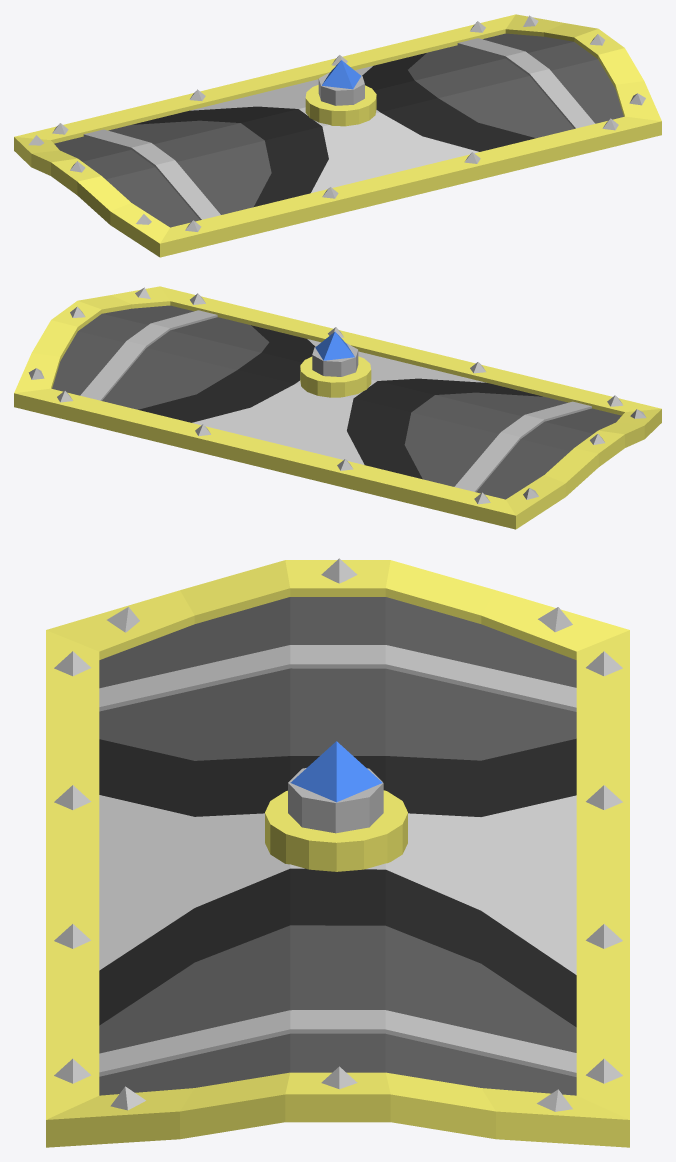
Rendered from Shield_2_e_gr.fbx.
3 renders of one model, top to bottom at view 1: azimuth 30°, elevation 25°; view 2: azimuth 150°, elevation 25°; view 3: azimuth 270°, elevation 25°, orthographic. The views are drawn at different scales.
Visible parts, largest first — view 1: Plane.260, Plane.248, Plane.264, Plane.265, Plane.262, Plane.261, Circle.330, Cone.402, Circle.329, Cone.401; view 2: Plane.260, Plane.248, Plane.264, Plane.265, Plane.261, Plane.262, Circle.330, Cone.402, Circle.329, Cone.401; view 3: Plane.248, Plane.260, Plane.264, Plane.265, Plane.262, Plane.261, Circle.330, Cone.402, Circle.329, Cone.401.
Boxes of the visible parts, left/top/right/bottom form: Plane.260: left=14, top=14, right=661, bottom=257; Plane.248: left=54, top=33, right=623, bottom=227; Plane.264: left=132, top=53, right=535, bottom=206; Plane.265: left=190, top=66, right=478, bottom=192; Plane.262: left=457, top=38, right=595, bottom=128; Plane.261: left=83, top=129, right=220, bottom=219; Circle.330: left=305, top=85, right=376, bottom=126; Cone.402: left=28, top=15, right=645, bottom=231; Circle.329: left=318, top=72, right=364, bottom=105; Cone.401: left=322, top=60, right=361, bottom=89; Plane.260: left=14, top=286, right=661, bottom=529; Plane.248: left=52, top=305, right=621, bottom=499; Plane.264: left=138, top=325, right=542, bottom=479; Plane.265: left=192, top=339, right=486, bottom=464; Plane.261: left=454, top=401, right=591, bottom=492; Plane.262: left=80, top=310, right=217, bottom=400; Circle.330: left=300, top=356, right=371, bottom=397; Cone.402: left=28, top=287, right=646, bottom=504; Circle.329: left=312, top=343, right=358, bottom=376; Cone.401: left=315, top=331, right=354, bottom=360; Plane.248: left=99, top=597, right=576, bottom=1095; Plane.260: left=46, top=560, right=629, bottom=1147; Plane.264: left=99, top=738, right=576, bottom=1027; Plane.265: left=99, top=795, right=576, bottom=974; Plane.262: left=99, top=1010, right=576, bottom=1076; Plane.261: left=99, top=645, right=576, bottom=711; Circle.330: left=265, top=790, right=407, bottom=871; Cone.402: left=54, top=558, right=622, bottom=1111; Circle.329: left=288, top=768, right=383, bottom=833; Cone.401: left=290, top=741, right=382, bottom=802.
Size of the model in its own units: 132 by 24.84 by 61.17.
